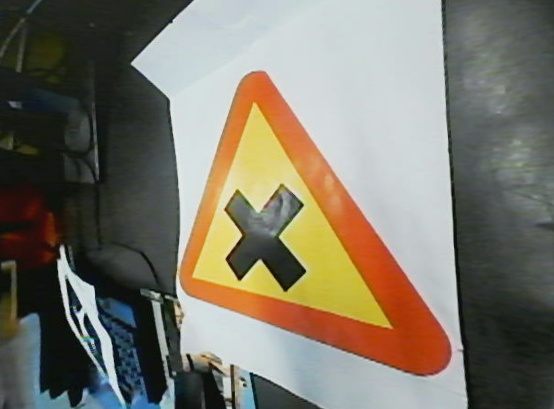junction: (175, 69, 457, 380)
